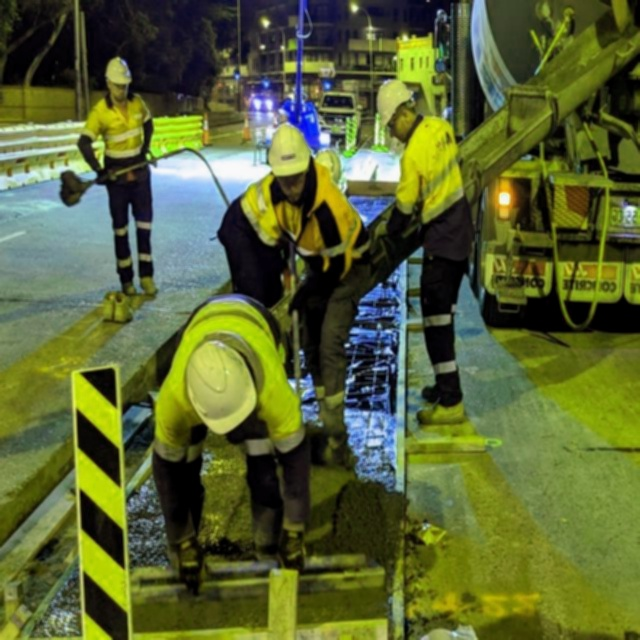Con_Casco: (187, 342, 257, 440), (376, 79, 418, 135), (103, 56, 132, 100)
